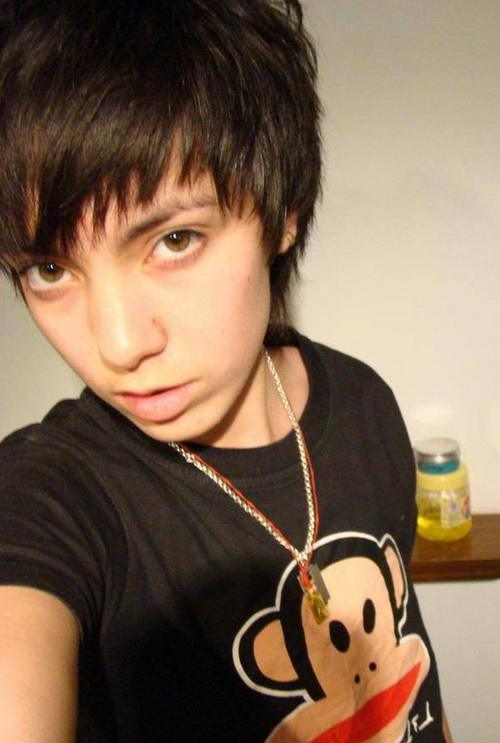person: (8, 7, 450, 743)
